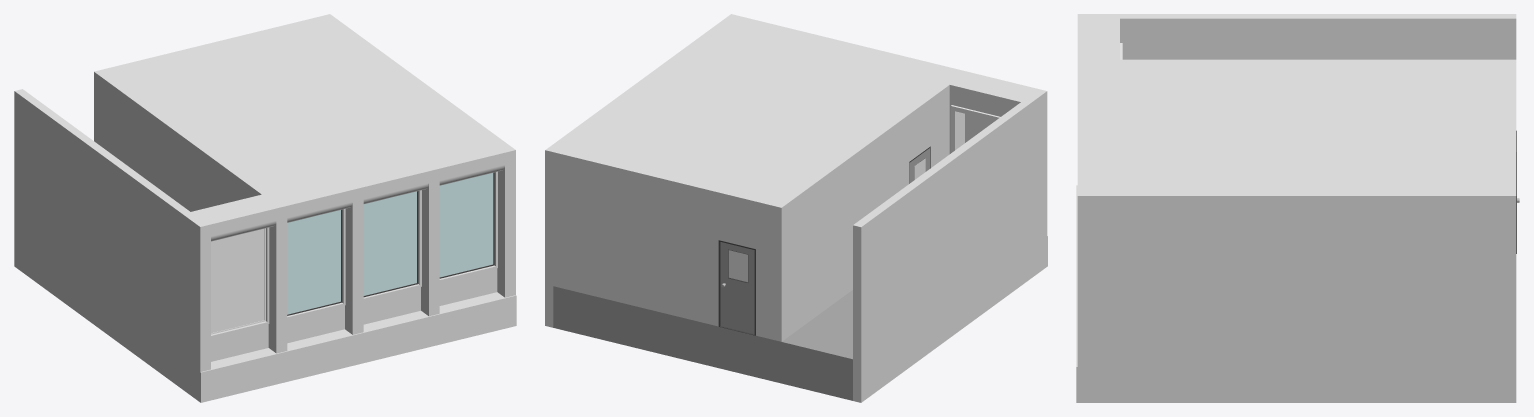
File: building_office_room_curtain.glb
3 renders of one model, left to right at view 1: azimuth 30°, elevation 25°; view 2: azimuth 150°, elevation 25°; view 3: azimuth 270°, elevation 25°, orthographic. The views are drawn at different scales.
Parts seen in each view (by area): view 1: object 119, object 4, object 141, object 142, object 143, object 155; view 2: object 119, object 4, object 5, object 148, object 152, object 153, object 131, object 155; view 3: object 119, object 4.
Boxes of the visible parts, left/top/right/bottom form: object 119: left=14, top=14, right=516, bottom=402; object 4: left=103, top=18, right=489, bottom=193; object 141: left=439, top=173, right=493, bottom=277; object 142: left=363, top=191, right=416, bottom=295; object 143: left=287, top=210, right=340, bottom=314; object 155: left=211, top=228, right=264, bottom=333; object 119: left=545, top=14, right=1047, bottom=402; object 4: left=557, top=29, right=944, bottom=203; object 5: left=553, top=286, right=852, bottom=400; object 148: left=720, top=242, right=754, bottom=334; object 152: left=951, top=105, right=1000, bottom=152; object 153: left=728, top=250, right=747, bottom=281; object 131: left=718, top=240, right=755, bottom=335; object 155: left=965, top=113, right=994, bottom=142; object 119: left=1076, top=14, right=1516, bottom=402; object 4: left=1120, top=62, right=1507, bottom=190.
Bounding box in the file's own units: 7.65 × 4.06 × 7.88.
